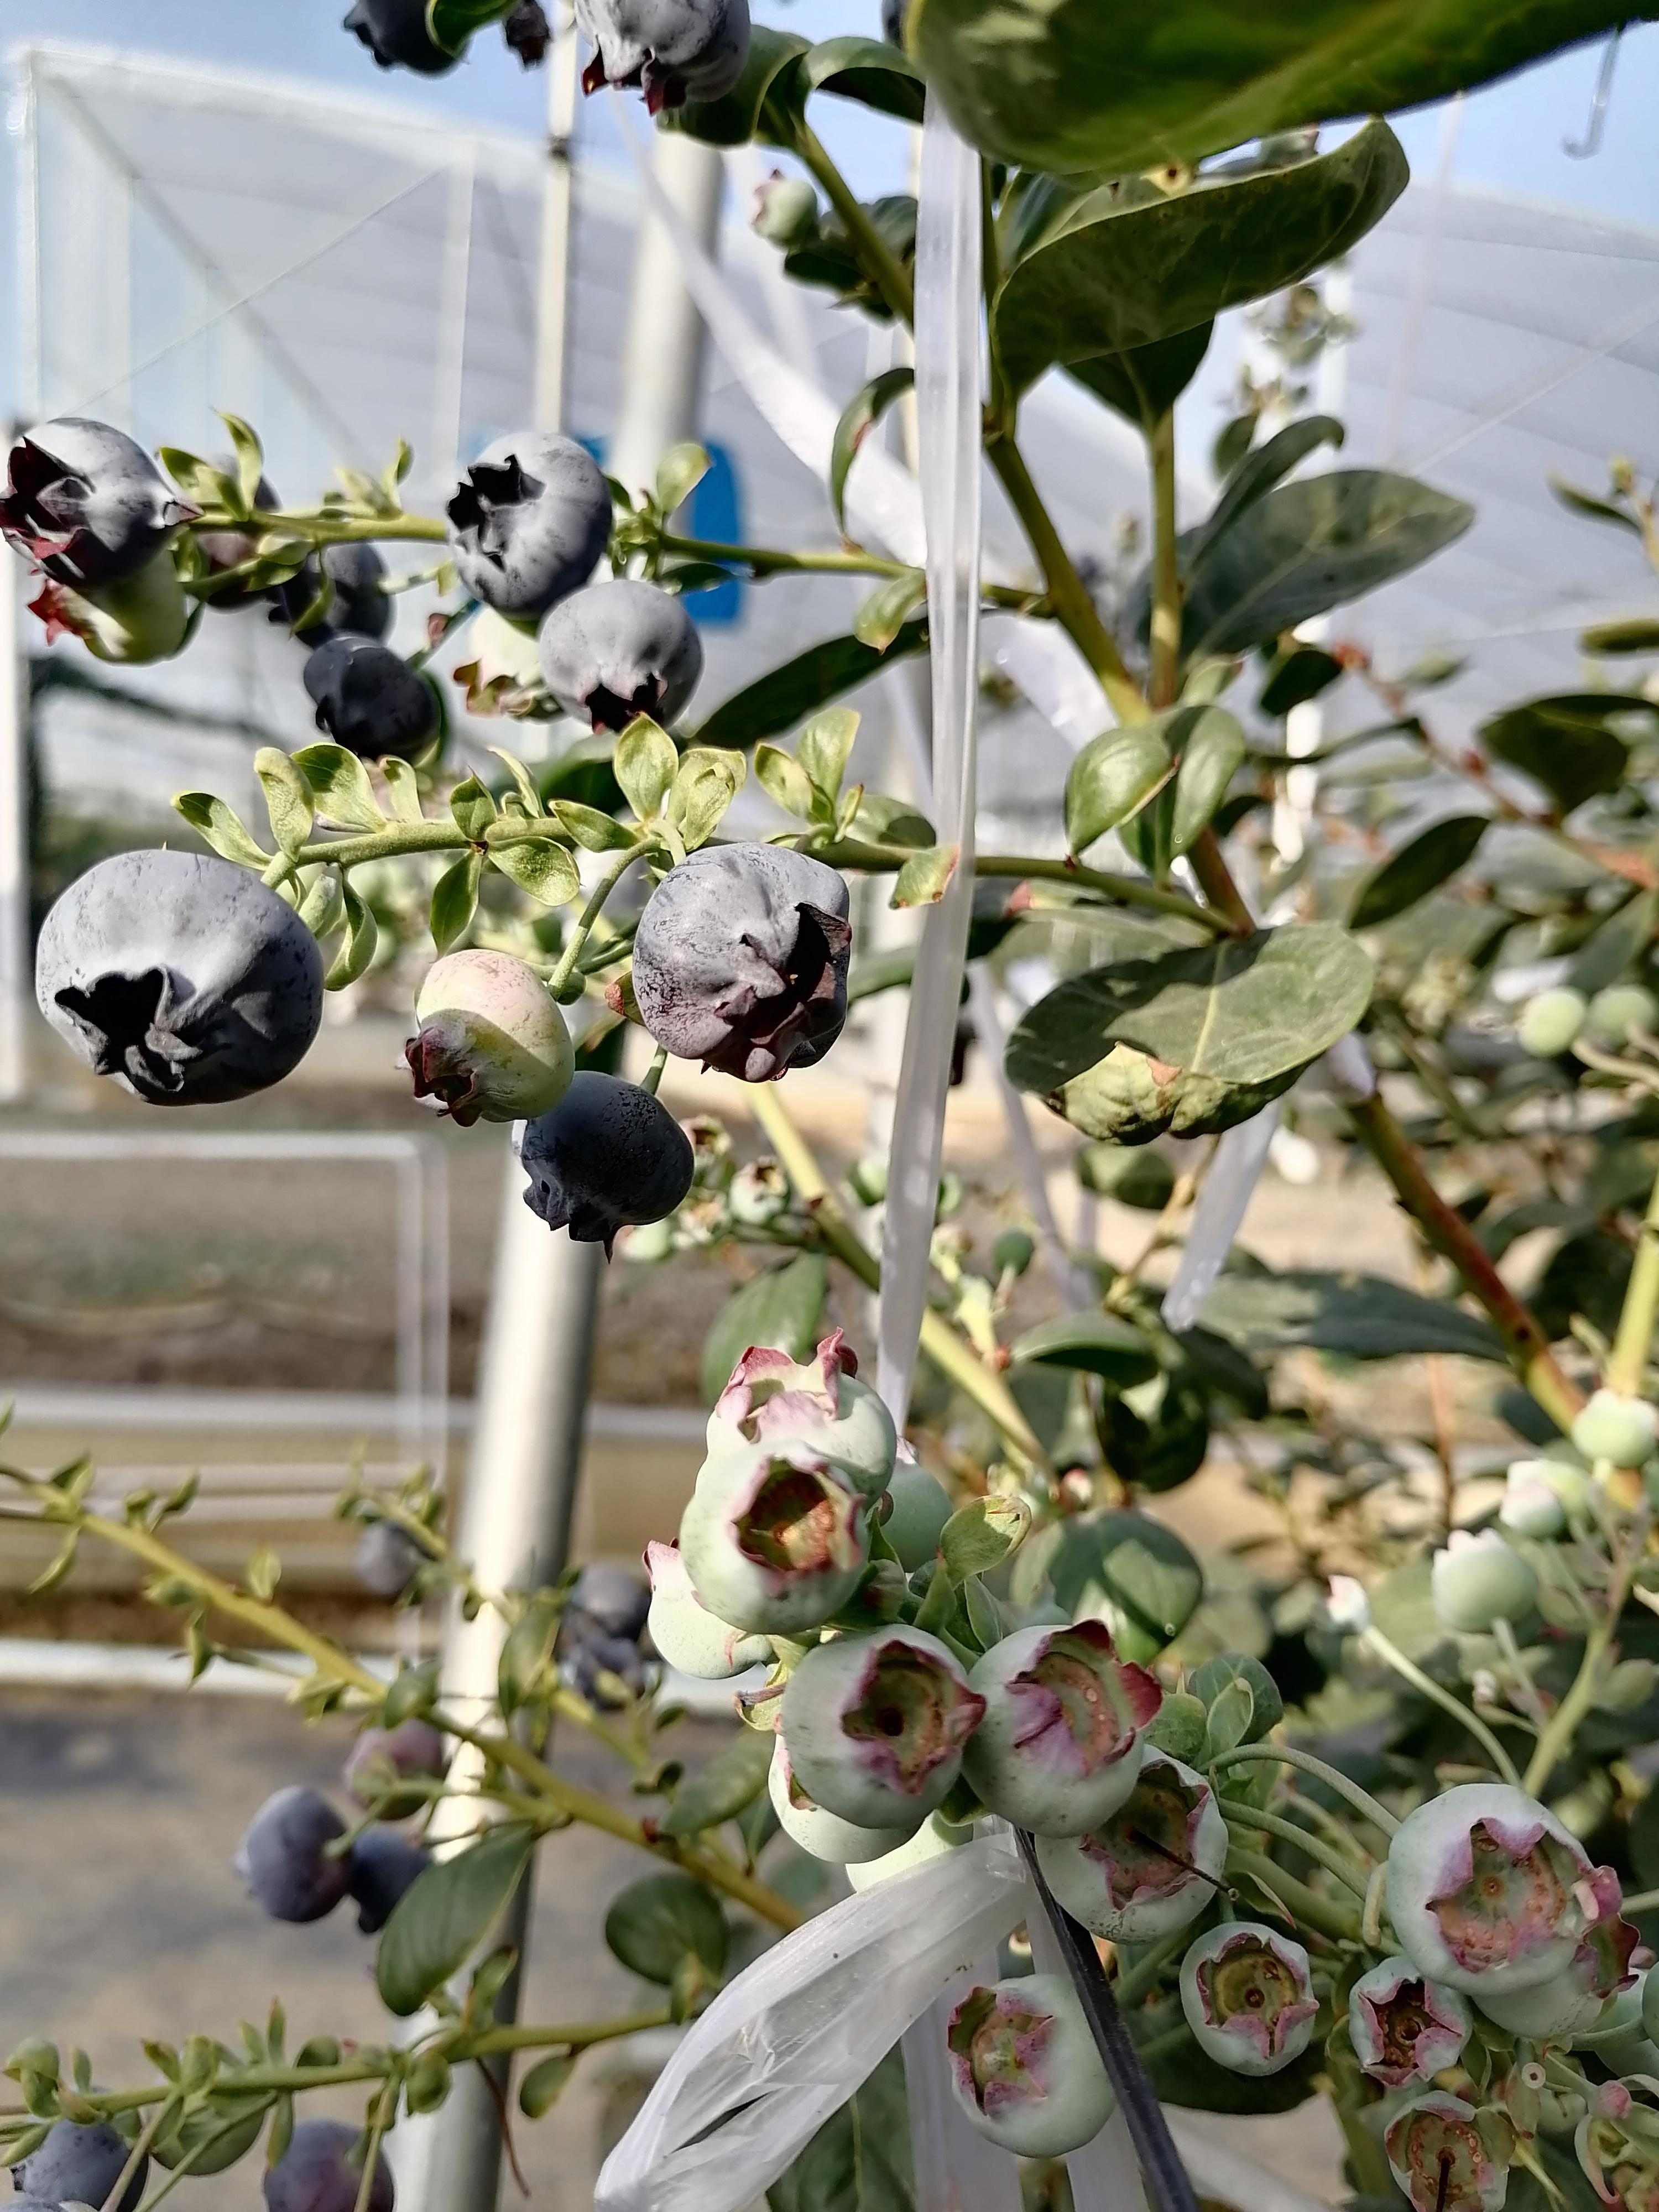ripe-blueberries: (33, 846, 326, 1106), (631, 840, 854, 1082), (519, 1069, 695, 1263), (443, 430, 613, 620), (0, 416, 179, 592), (537, 577, 704, 733), (575, 3, 753, 118), (305, 634, 443, 766), (19, 2085, 150, 2212), (239, 1789, 357, 1923), (274, 535, 396, 651), (260, 2118, 397, 2212), (342, 0, 471, 78), (352, 1831, 441, 1939), (579, 1562, 652, 1644), (354, 1524, 416, 1595)
